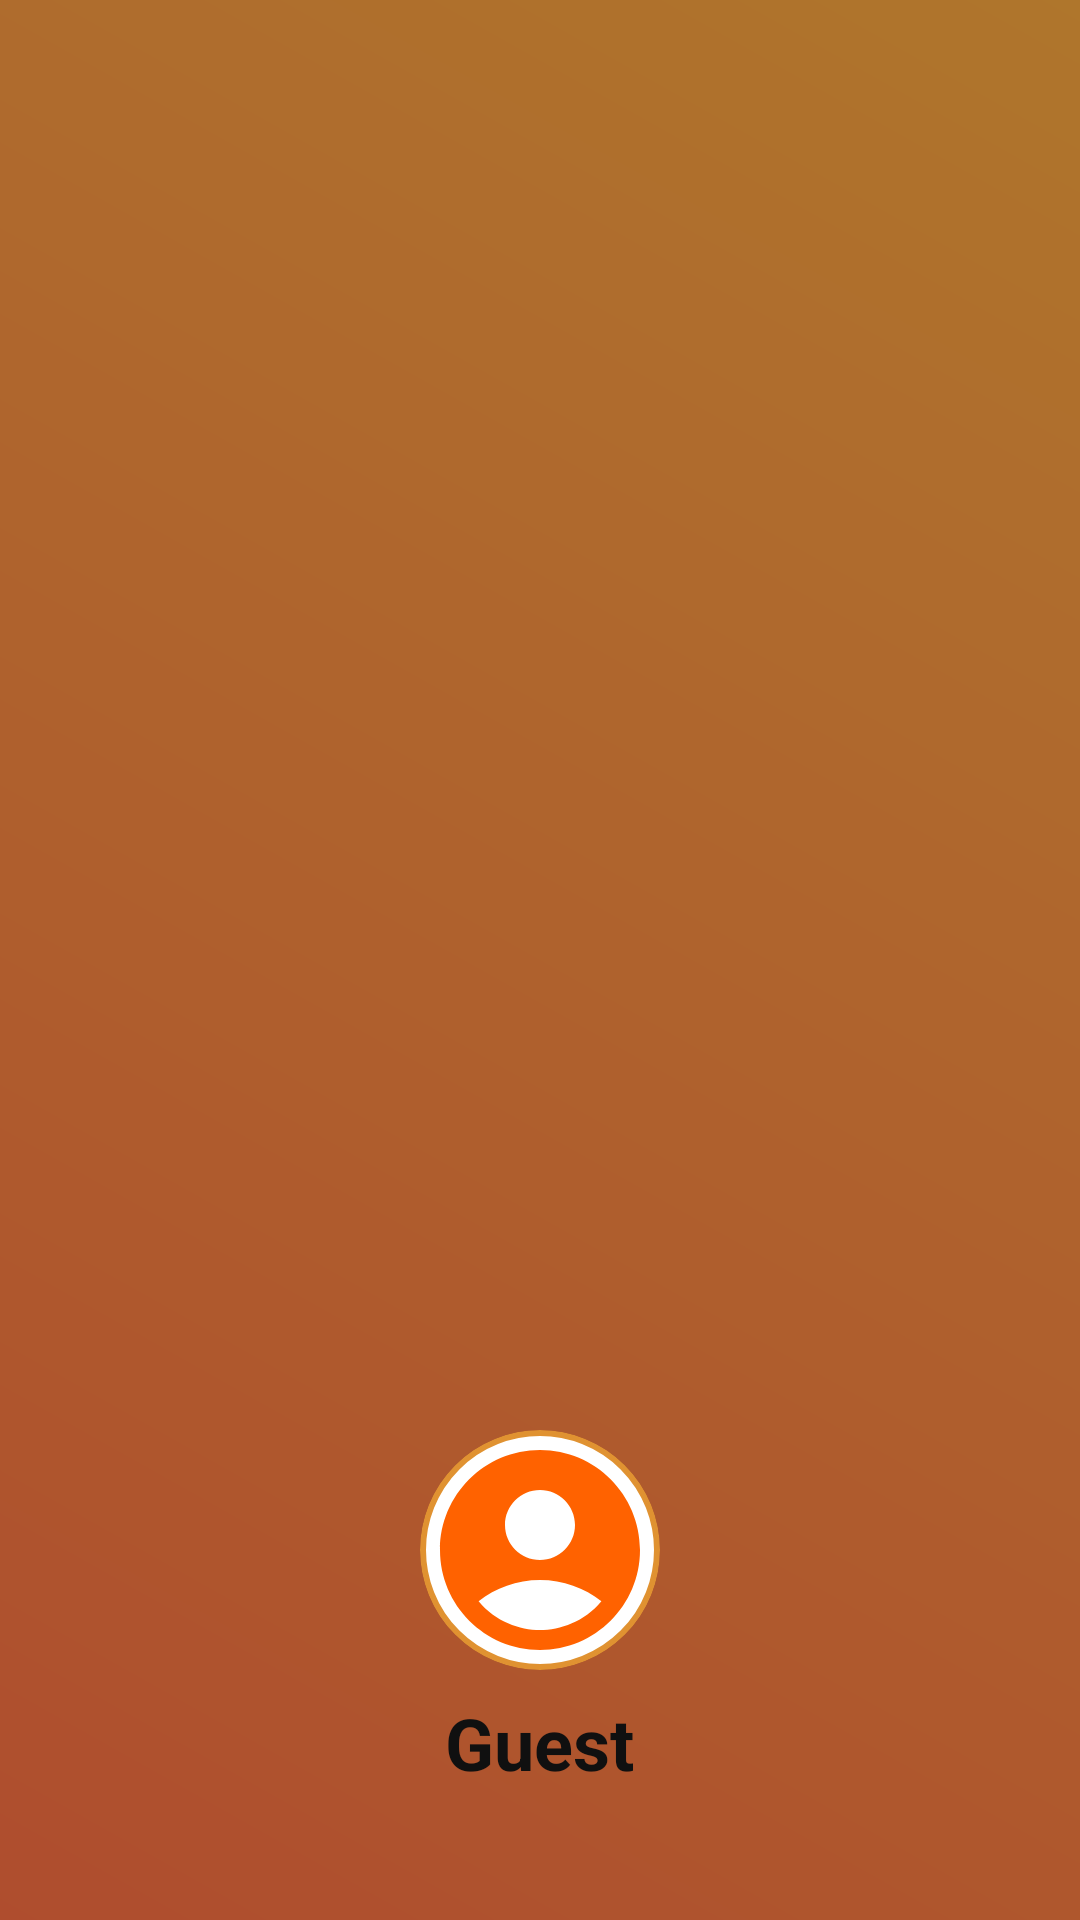

Where icons sit on this 1080px x 1920px app screen, as bbox=[x1, y1, x2, y2]:
profile picture: bbox=[420, 1430, 660, 1670]
